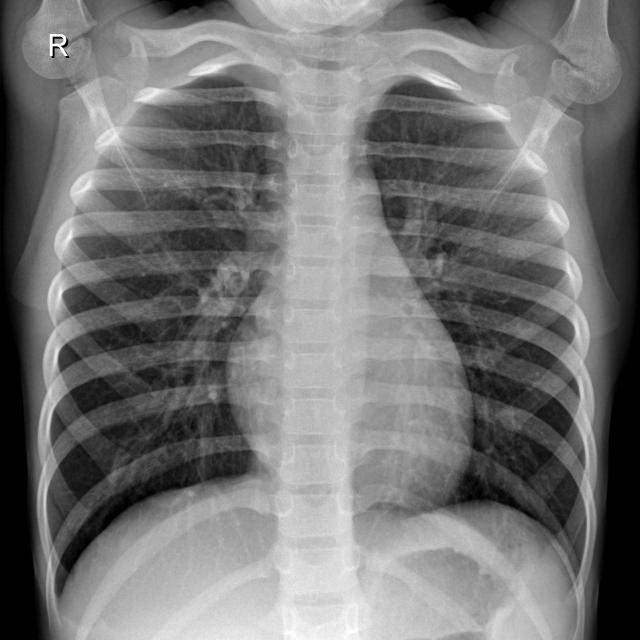no-pneumonia: (41, 83, 282, 592), (366, 82, 593, 562)
